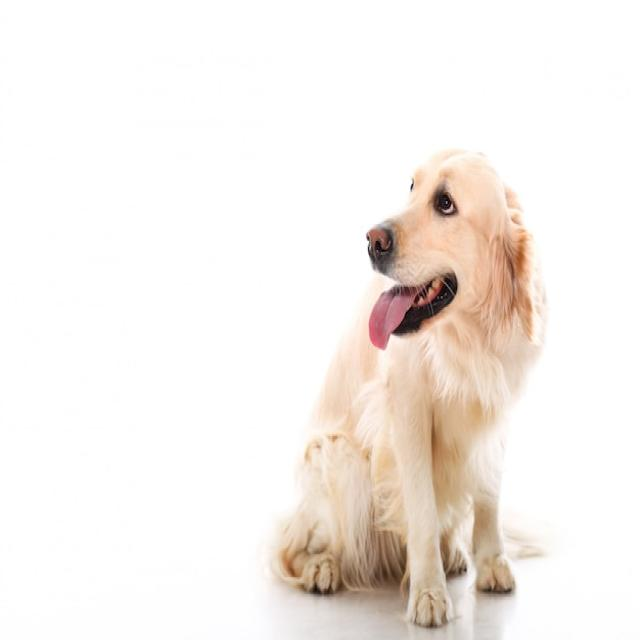Dog: (267, 150, 547, 627)
